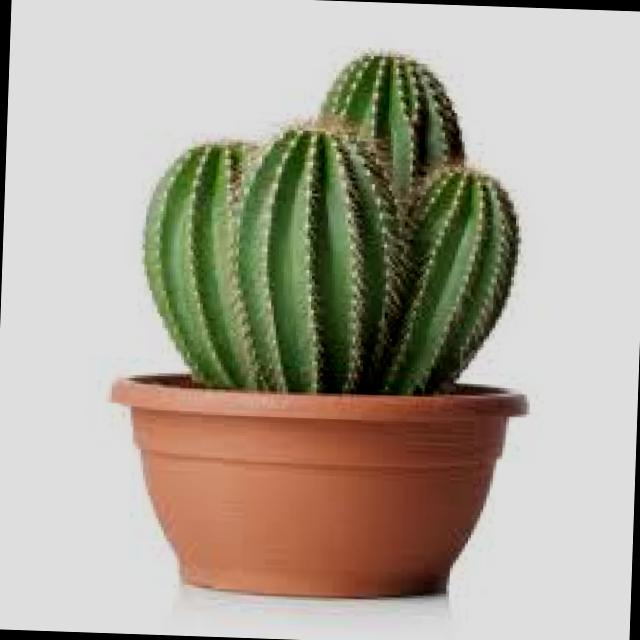cactus: (98, 27, 591, 366)
